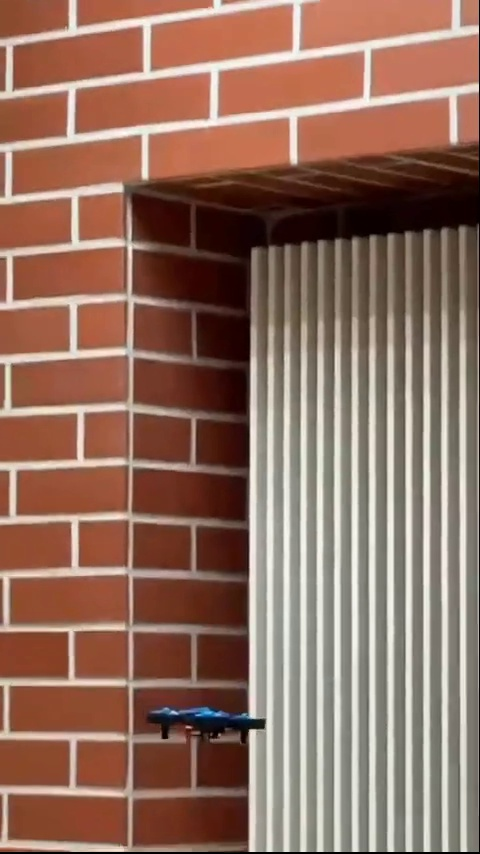drone: (146, 703, 271, 749)
